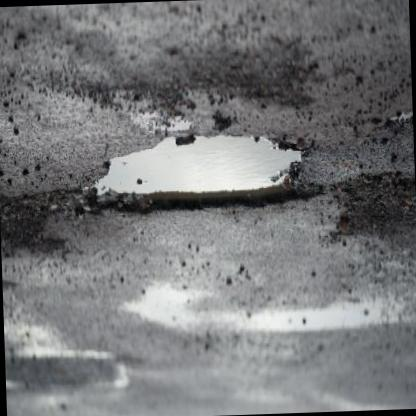pothole: (80, 130, 314, 223)
